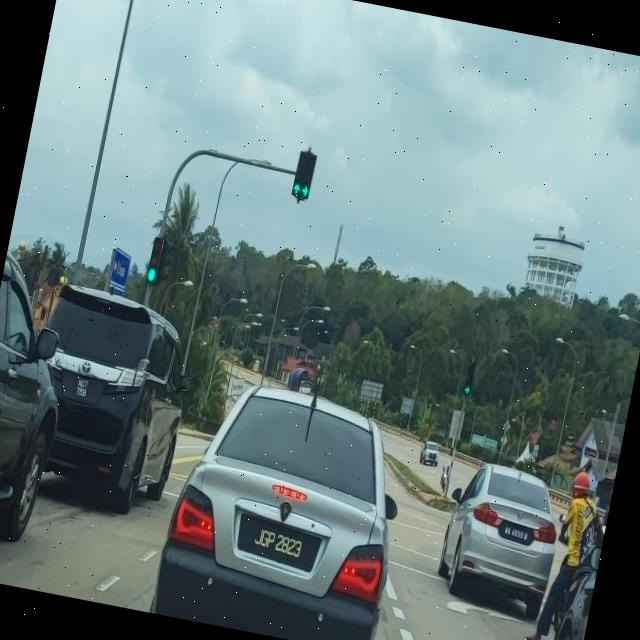green_light: (290, 148, 310, 198), (144, 236, 164, 284), (300, 152, 318, 200)
red_light: (462, 360, 476, 397)
